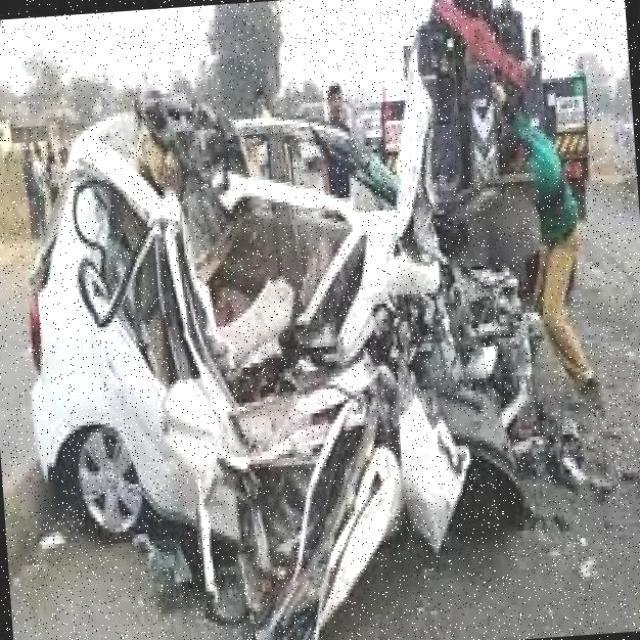accident: (0, 29, 621, 640)
